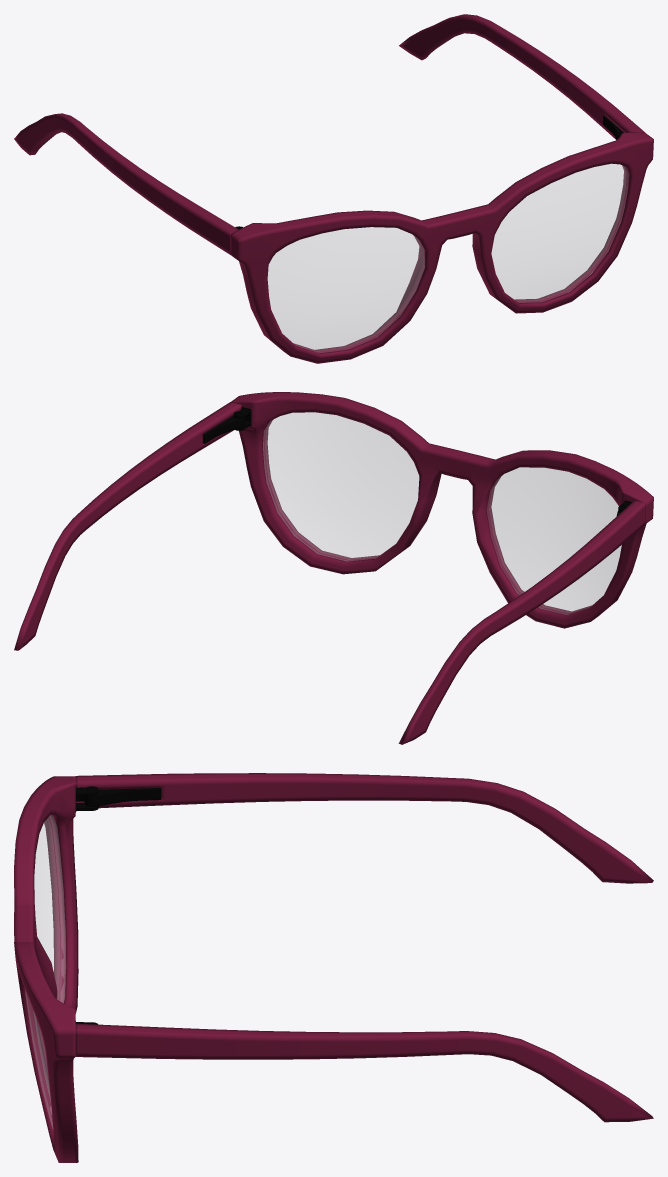
The model's file is glasses-vv-2.glb.
3 views of the same model, one above another, from view 1: azimuth 30°, elevation 25°; view 2: azimuth 150°, elevation 25°; view 3: azimuth 270°, elevation 25° (orthographic). The views are drawn at different scales.
Parts seen in each view (by area): view 1: GLASSES_2; view 2: GLASSES_2; view 3: GLASSES_2.
Boxes of the visible parts, <box> form: GLASSES_2: <box>14,14,653,363</box>; GLASSES_2: <box>14,392,653,744</box>; GLASSES_2: <box>14,773,653,1162</box>.
Bounding box in the file's own units: 0.1389 × 0.0482 × 0.1422.
